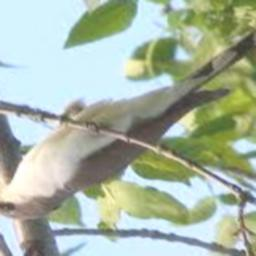Cuckoo: (0, 17, 256, 219)
